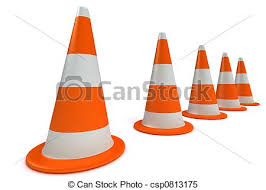cones: (28, 7, 129, 173), (136, 32, 195, 140), (184, 42, 225, 121), (215, 49, 245, 113), (232, 58, 260, 107)
